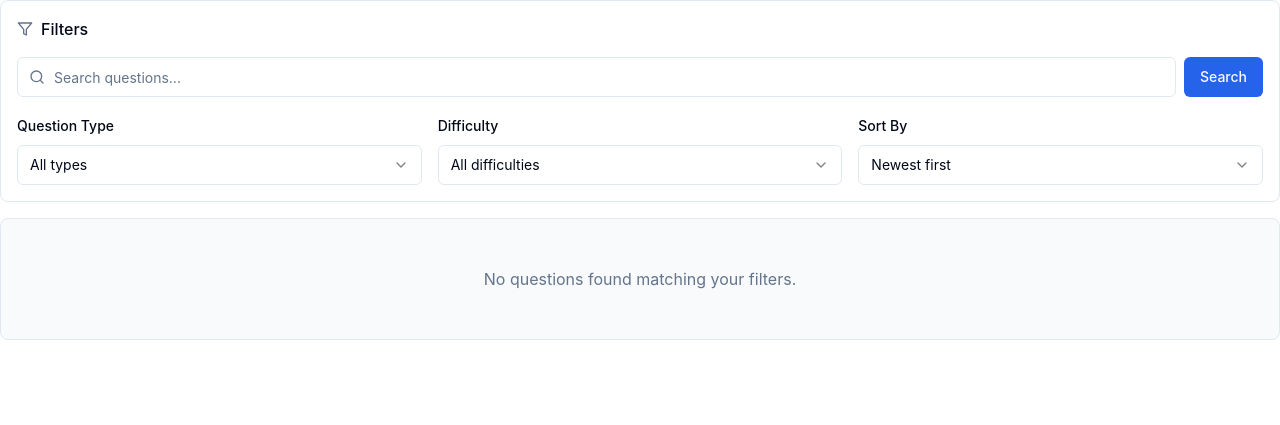
QuestionList › Empty State › should show clear filters button in empty state when filters active
# Type in search to activate filters
Type "nonexistent" into the field with placeholder "Search questions..." at (596, 77), box [17,57,1176,97]
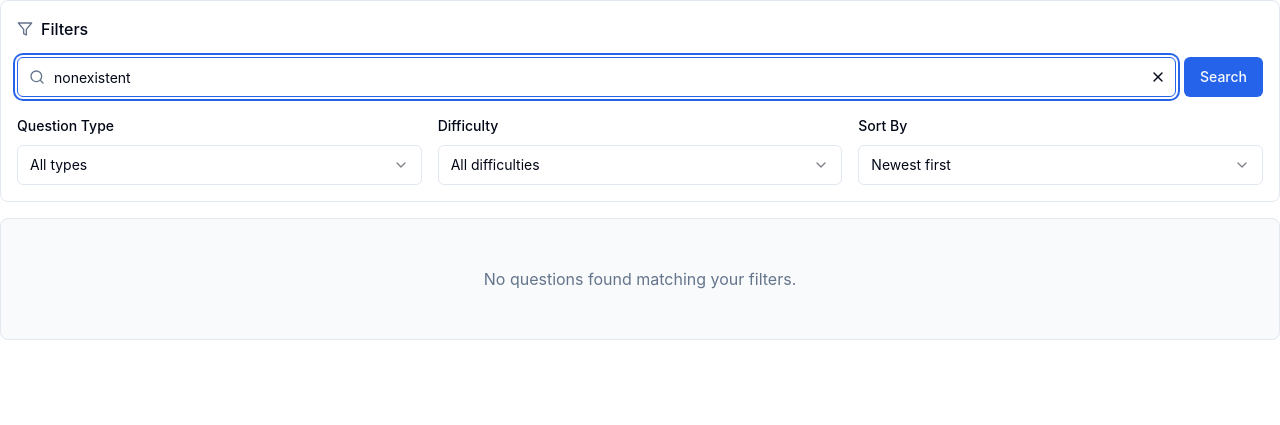
Click the button "Search" at (1224, 77), box [1184,57,1263,97]
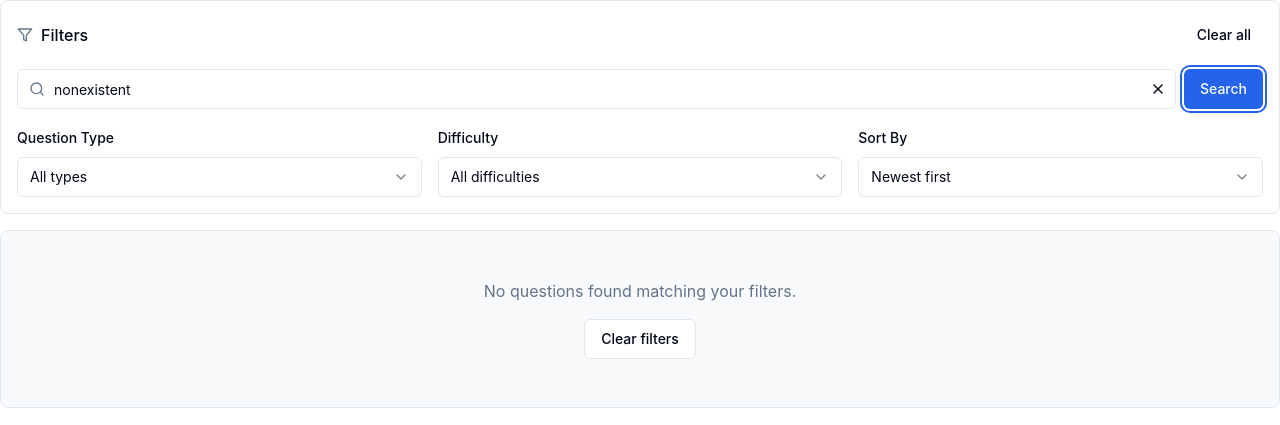
Expected: the button "Clear all" is shown, [1185,17,1263,53]
